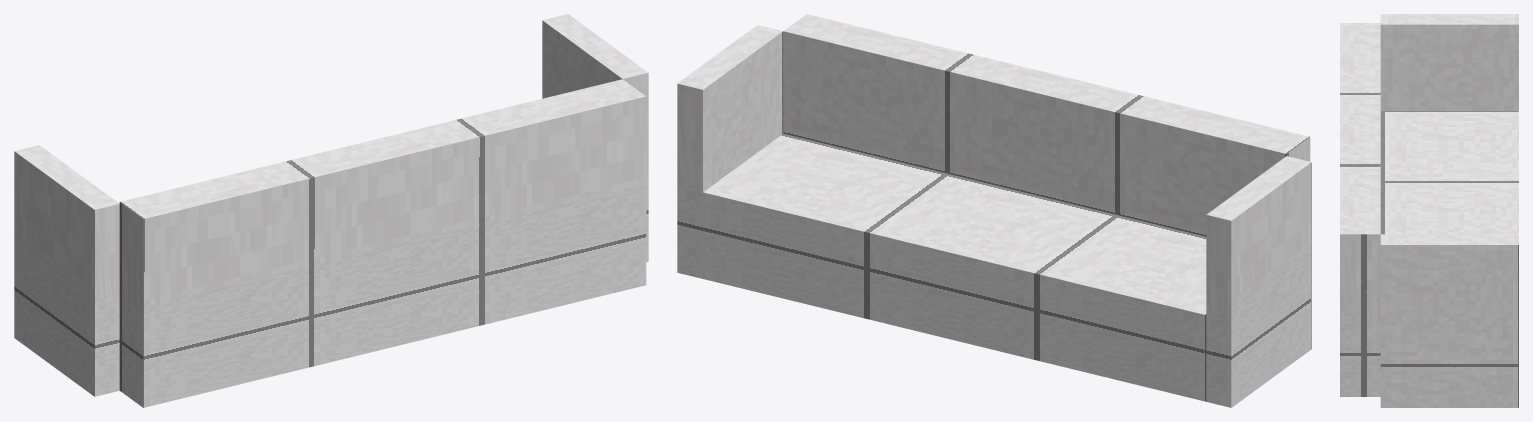
The model's file is BLOCKYGON_COUCHBIG.fbx.
3 views of the same model, side by side, from view 1: azimuth 30°, elevation 25°; view 2: azimuth 150°, elevation 25°; view 3: azimuth 270°, elevation 25° (orthographic). The views are drawn at different scales.
Visible parts, largest first — view 1: BLOCKYGON_COUCHBIG; view 2: BLOCKYGON_COUCHBIG; view 3: BLOCKYGON_COUCHBIG.
Part boxes in pixels (x1,y1,x2,y2): BLOCKYGON_COUCHBIG: (14,14,648,407); BLOCKYGON_COUCHBIG: (677,14,1311,407); BLOCKYGON_COUCHBIG: (1340,14,1518,407).
Size of the model in its own units: 326 by 106 by 106.
